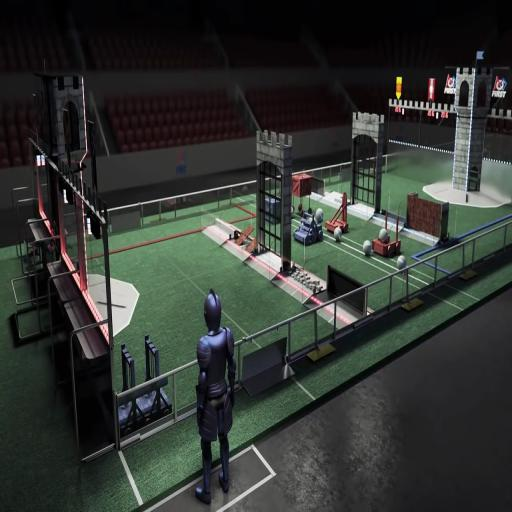robot: (135, 335, 174, 420), (114, 344, 142, 430), (372, 210, 404, 258), (291, 172, 316, 216), (294, 211, 323, 247), (327, 190, 350, 234)
